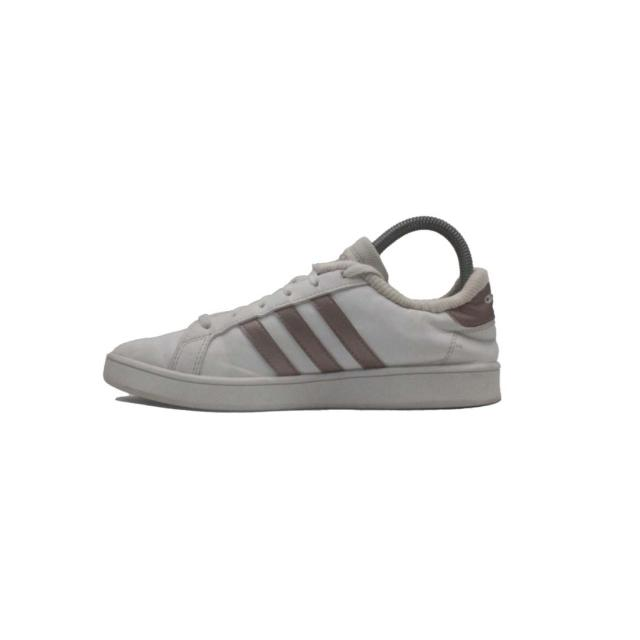heel: (467, 267, 497, 367)
midsole: (97, 358, 502, 409)
uppersole: (102, 242, 478, 382)
